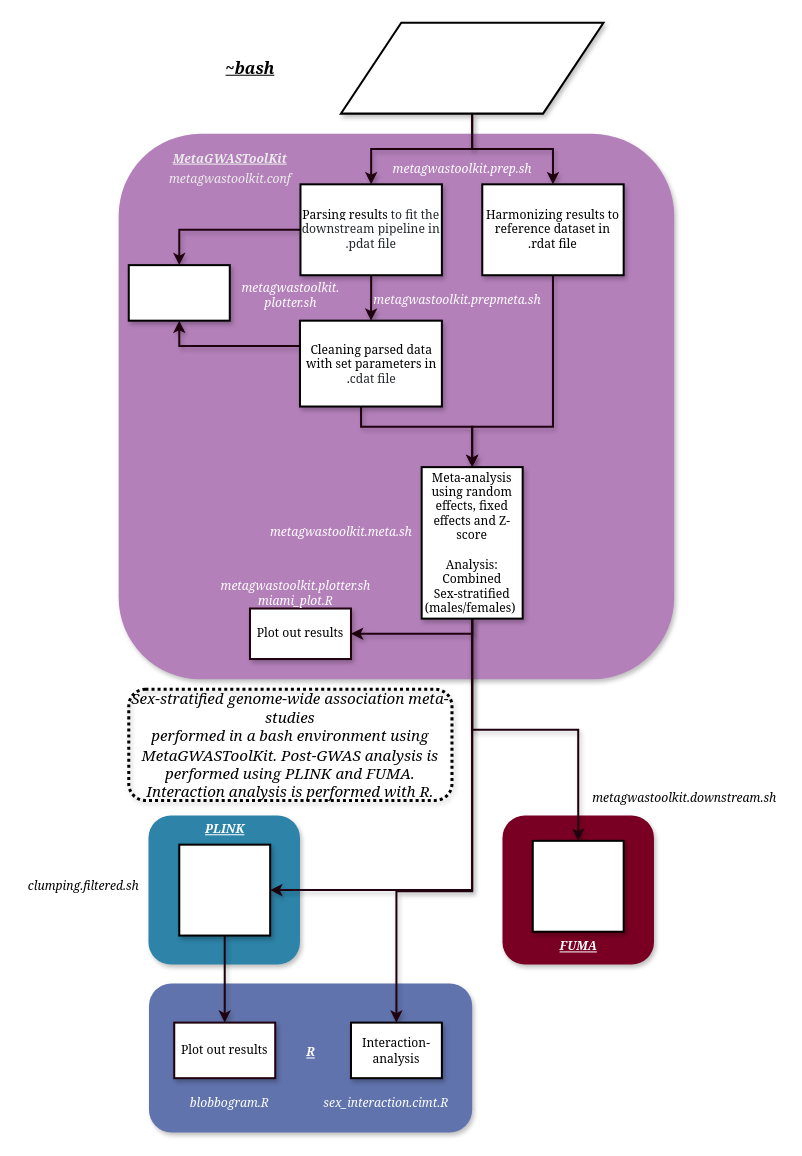
Image size: 802x1156. Some labels were removed from this diagram. Each missing label, with the centre of its shape:
"Clumping" belongs at (x=225, y=891).
"Gene-annotation" belongs at (x=578, y=887).
"GWAS results of cohort studies .txt.gz format" belongs at (x=472, y=69).
"Plot out data" belongs at (x=179, y=294).
